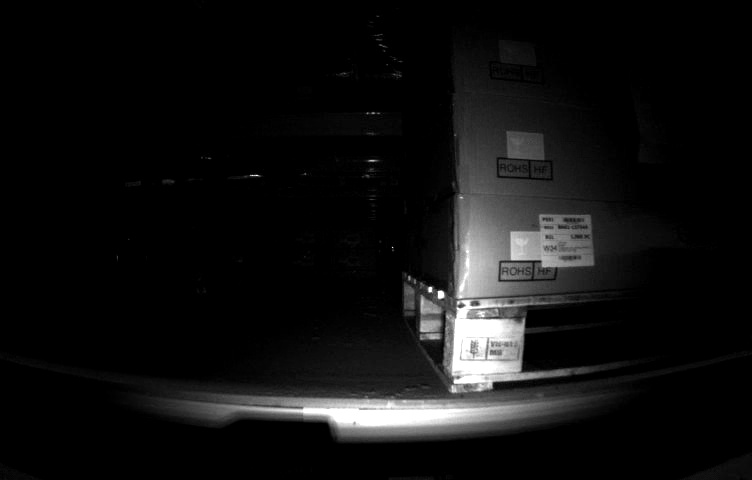True Barcode: (535, 209, 595, 270)
